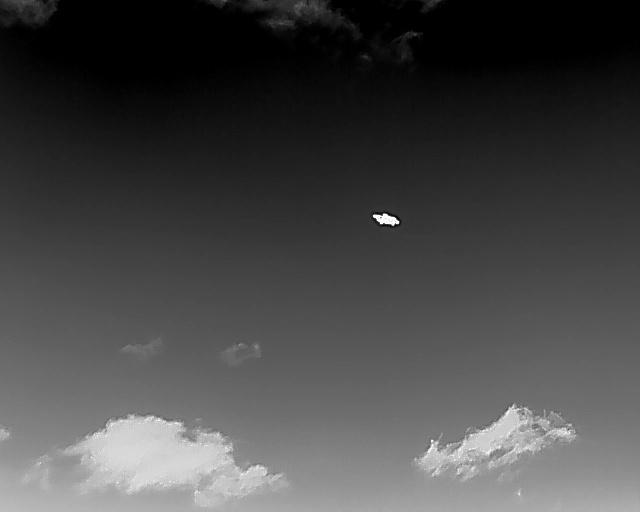fpv-drone: (372, 212, 400, 226)
